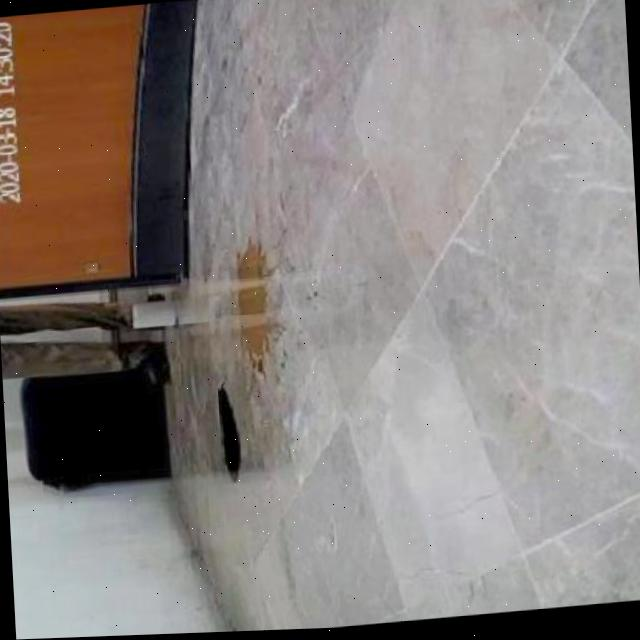spillage: (232, 238, 274, 372), (219, 386, 243, 483)
